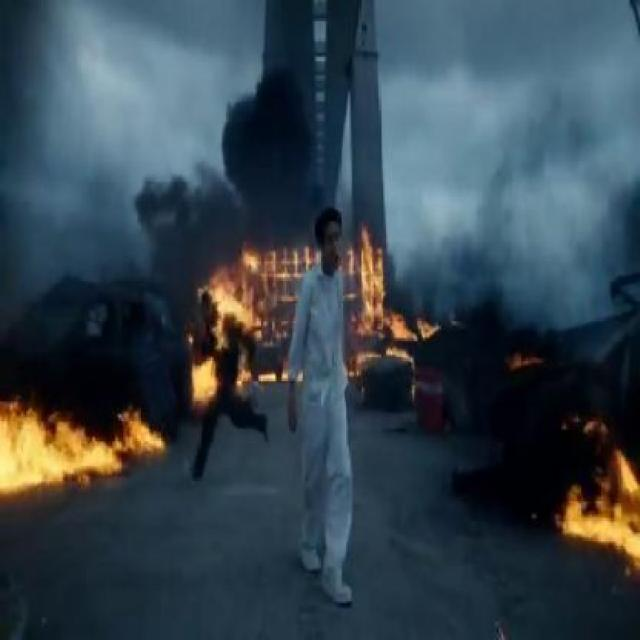fire: (2, 385, 156, 490), (196, 247, 290, 396), (569, 447, 640, 562), (347, 244, 396, 370)
smoke: (500, 70, 640, 316), (402, 207, 564, 335), (9, 174, 132, 328), (221, 60, 317, 248), (132, 156, 236, 290)
